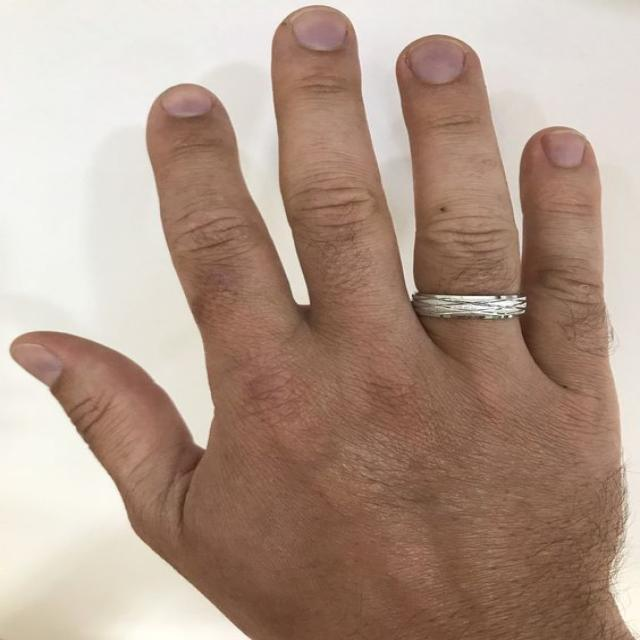Fingernail: (293, 7, 348, 52), (10, 345, 60, 390), (411, 39, 462, 83), (542, 131, 586, 171), (162, 85, 212, 118)
